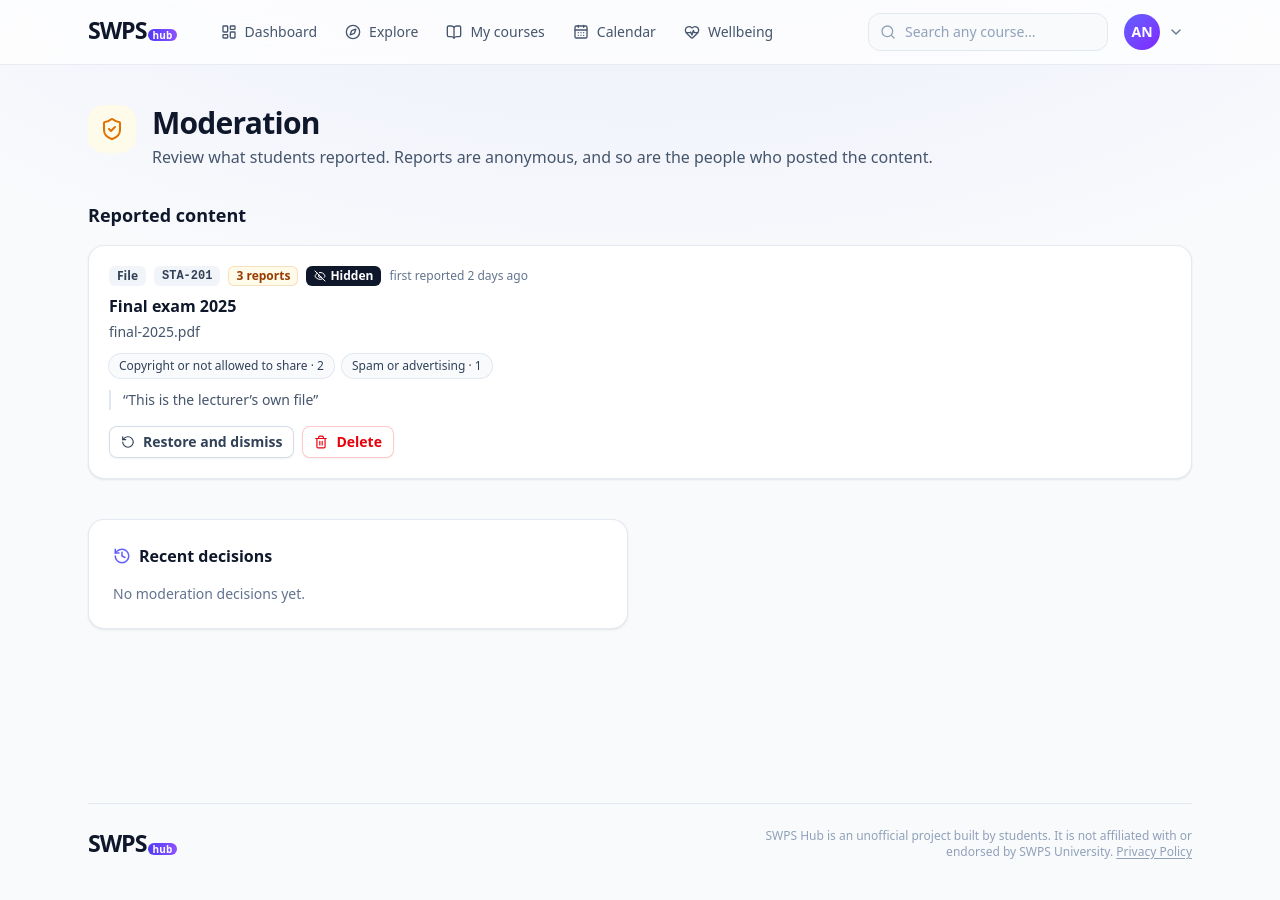
Test case: Moderation › shows reported content without reporters and restores it
Expected: the list item "“This is the lecturer’s own file”" is shown, [123, 390, 318, 409]
Expected: the text "Anna Nowak" is not shown
Click the button "Restore and dismiss" at x=202, y=442, box [109, 426, 294, 458]
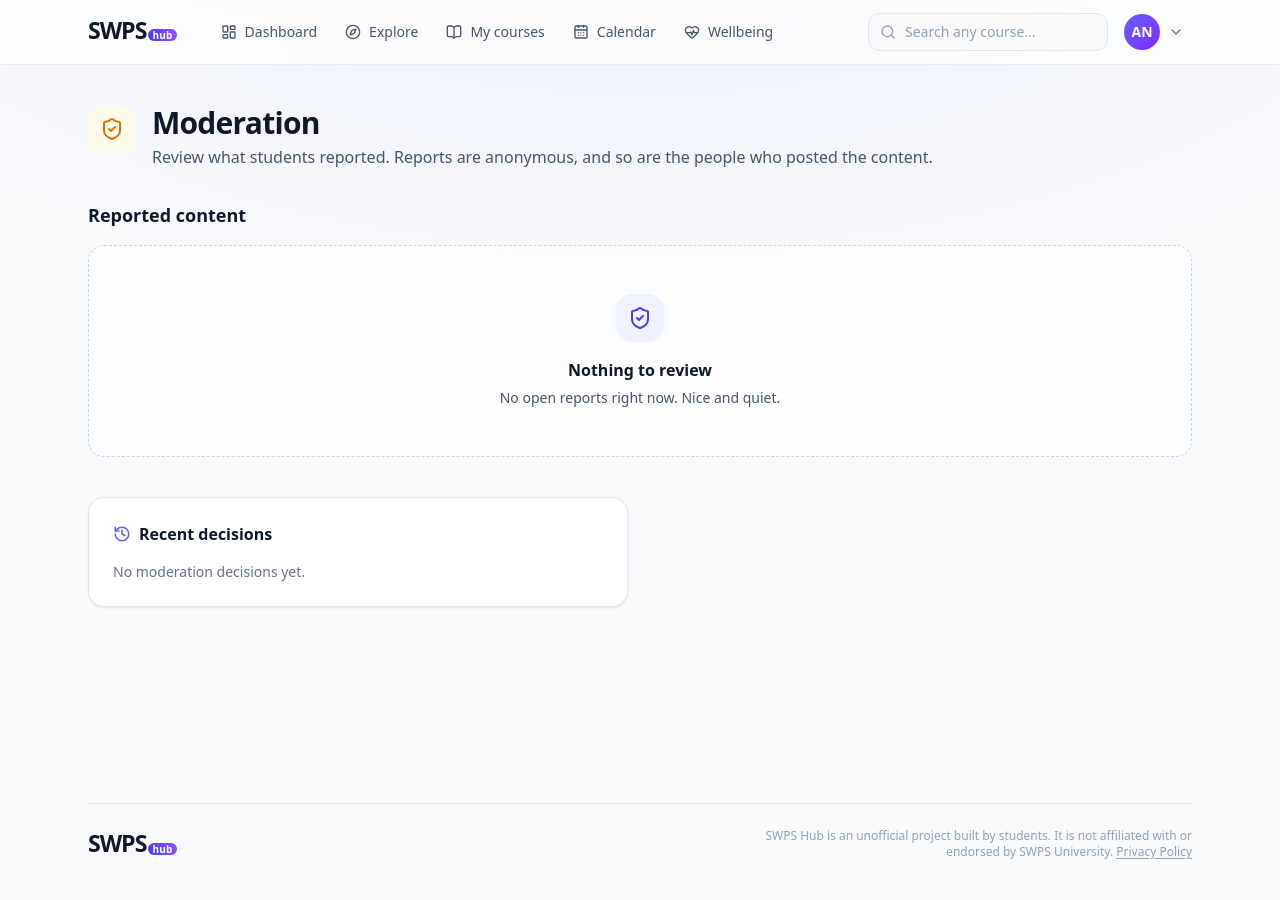
Expected: the text "Nothing to review" is shown, [568, 359, 712, 381]
Click the button with aria-label "Account menu" at x=1156, y=32, box [1120, 10, 1192, 54]
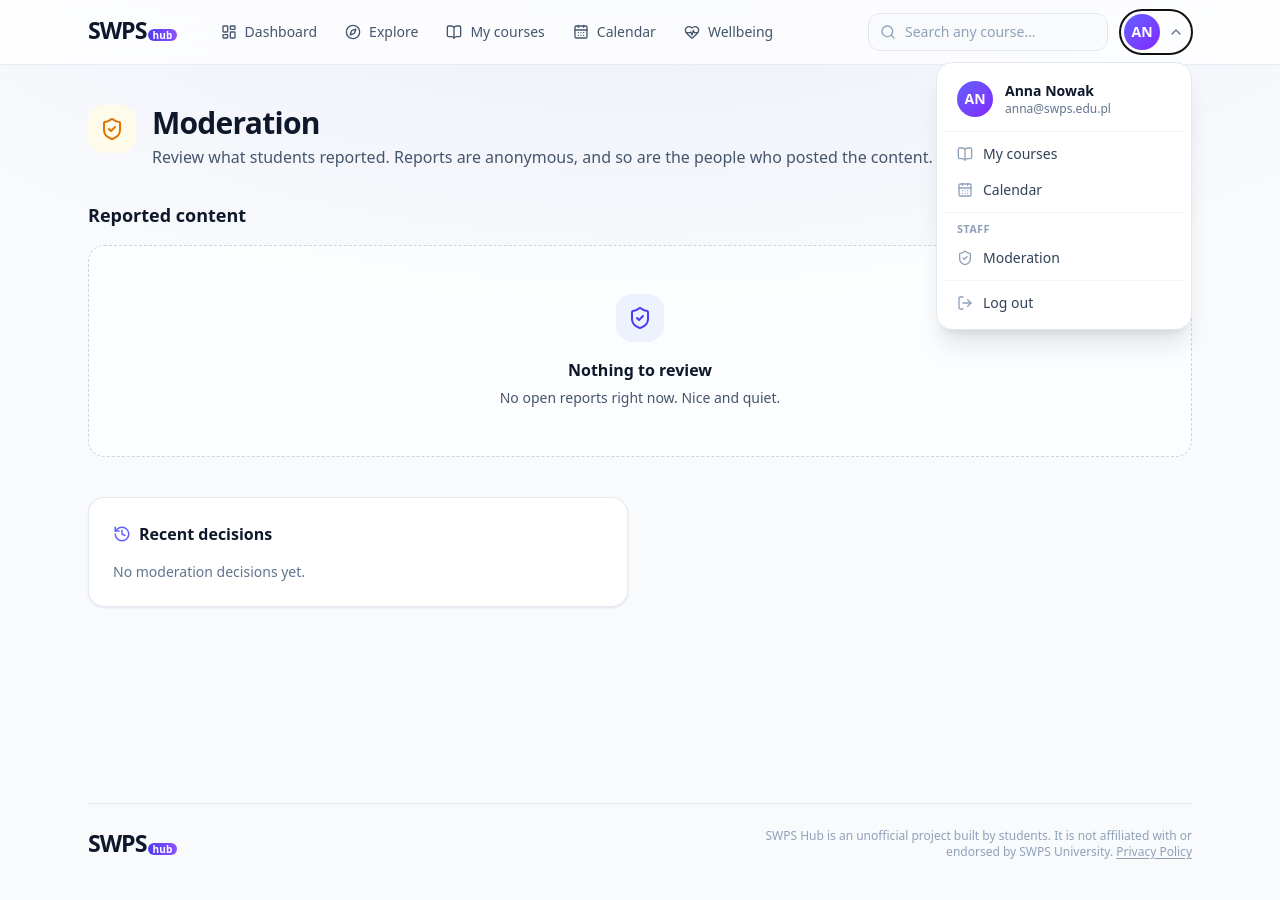
Expected: the menu item "Moderation" is shown, [957, 248, 1060, 266]
